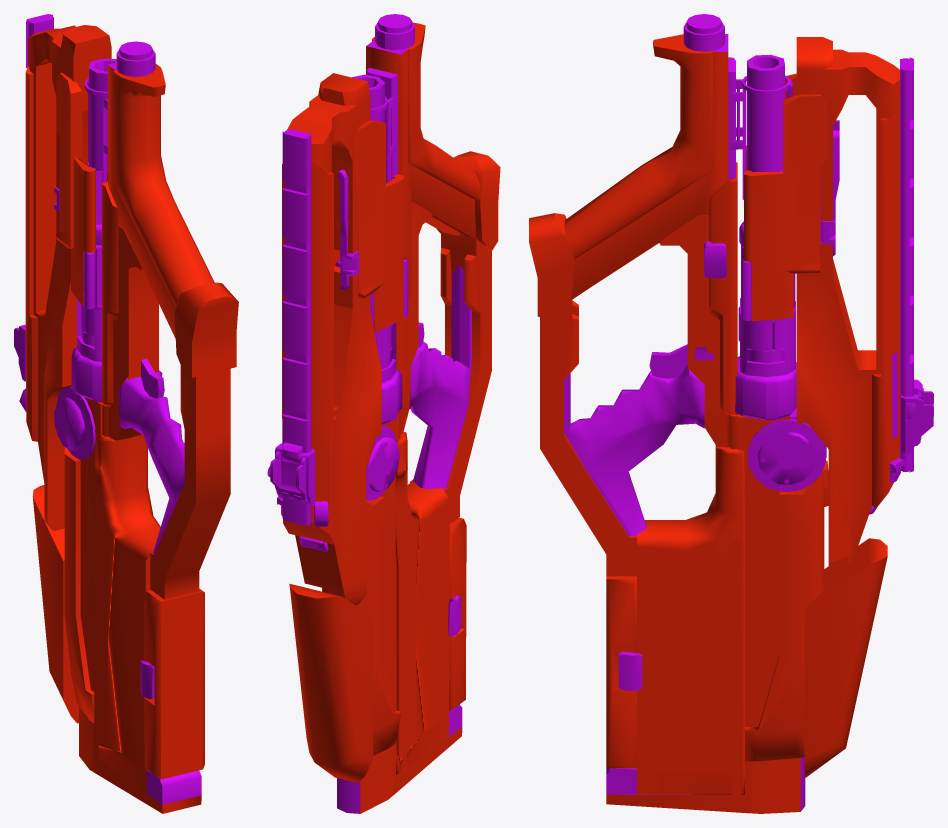
Rendered from lstar.fbx.
3 renders of one model, left to right at view 1: azimuth 30°, elevation 25°; view 2: azimuth 150°, elevation 25°; view 3: azimuth 270°, elevation 25°, orthographic. The views are drawn at different scales.
Visible parts, largest first — view 1: w_lstar_LOD0; view 2: w_lstar_LOD0; view 3: w_lstar_LOD0.
Part boxes in pixels (left/top/right/bottom): w_lstar_LOD0: left=14, top=14, right=238, bottom=813; w_lstar_LOD0: left=267, top=14, right=500, bottom=813; w_lstar_LOD0: left=529, top=14, right=933, bottom=813.
Bounding box in the file's own units: 246 × 2679 × 1252.
